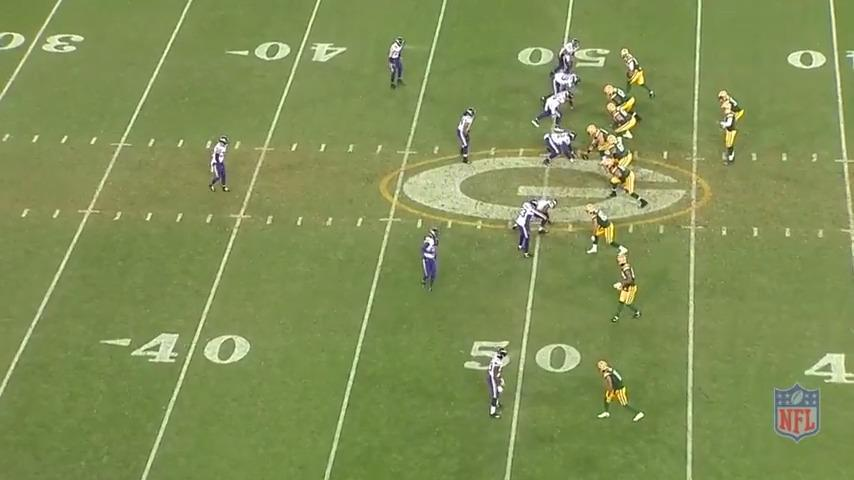defense: (482, 348, 511, 423), (533, 87, 575, 131), (512, 197, 541, 260), (421, 229, 447, 299), (541, 130, 582, 170), (205, 135, 231, 196), (523, 196, 558, 235), (457, 107, 479, 168), (386, 36, 408, 94), (552, 37, 583, 74), (548, 70, 583, 99)
oline: (605, 160, 651, 212), (604, 83, 640, 123), (586, 122, 618, 163), (606, 102, 637, 144), (598, 137, 633, 168)
qb: (720, 106, 743, 169)
skill: (596, 357, 650, 427), (611, 248, 647, 327), (586, 204, 630, 259), (618, 44, 657, 98), (716, 87, 743, 136)
